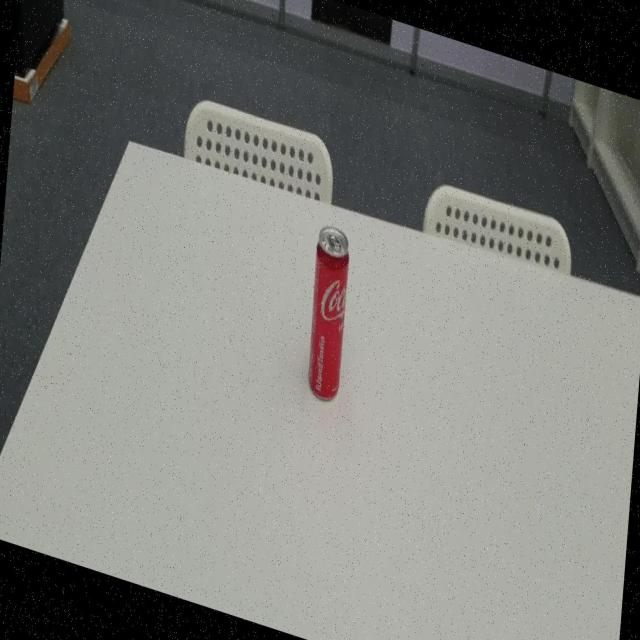coca-cola: (304, 220, 353, 413)
